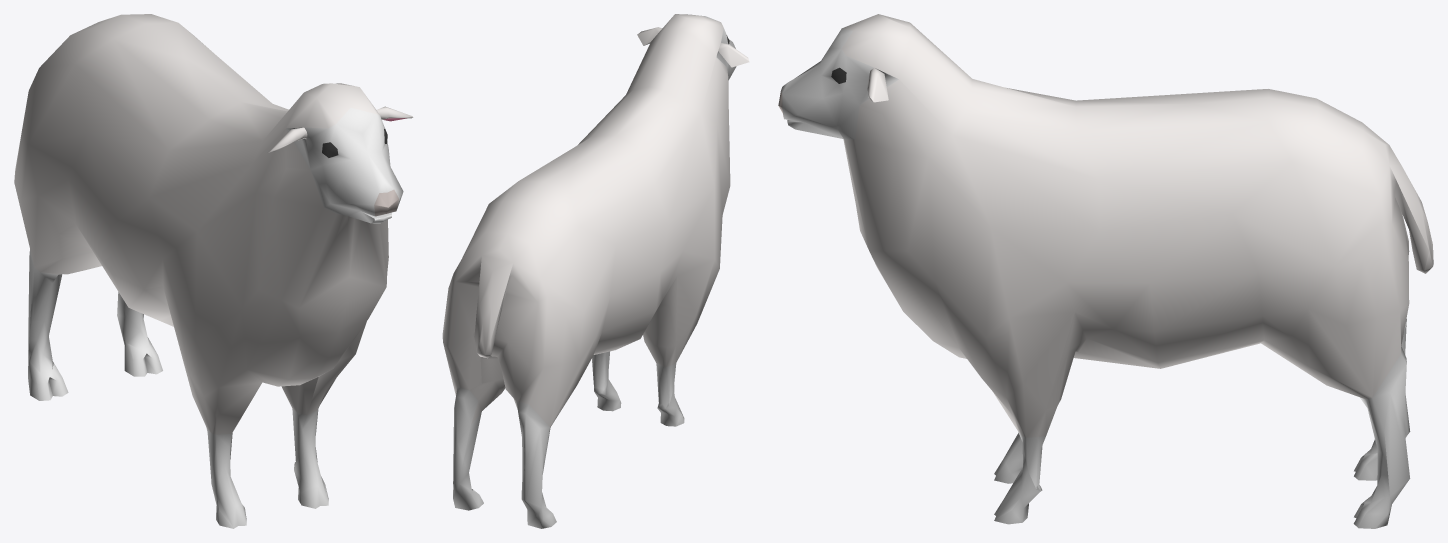
File: sheep_003.glb
3 renders of one model, left to right at view 1: azimuth 30°, elevation 25°; view 2: azimuth 150°, elevation 25°; view 3: azimuth 270°, elevation 25°, orthographic. The views are drawn at different scales.
Visible parts, largest first — view 1: sheep_003; view 2: sheep_003; view 3: sheep_003.
Boxes of the visible parts, left/top/right/bottom form: sheep_003: left=14, top=14, right=413, bottom=528; sheep_003: left=442, top=14, right=749, bottom=528; sheep_003: left=778, top=14, right=1433, bottom=528.
Bounding box in the file's own units: 0.481 × 1.14 × 1.42.
1 material, 1 textured.
